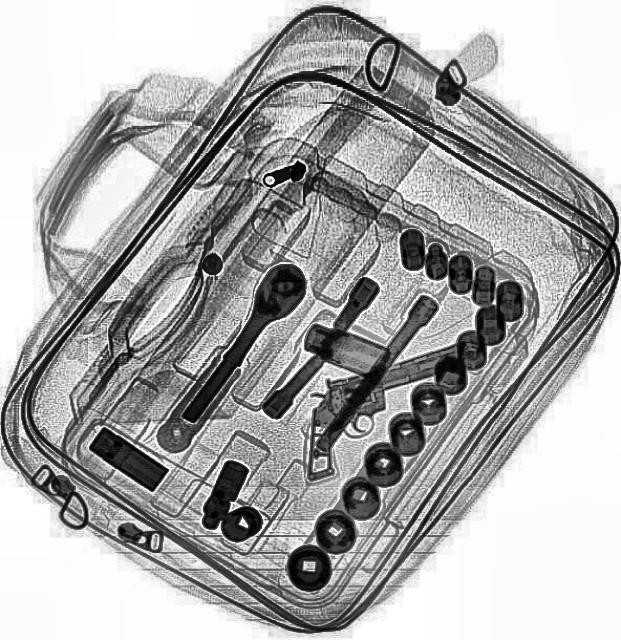Gun: (280, 338, 500, 482)
